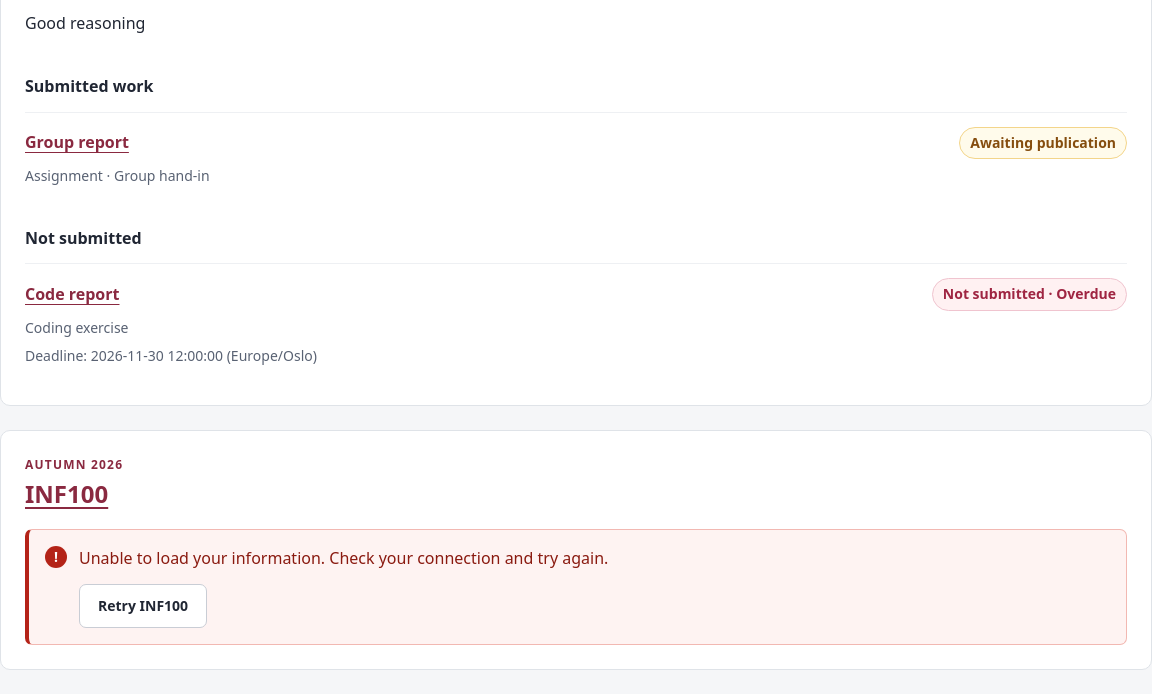
Scenario: Profile › keeps a course failure separate from personal information and other courses, and supports retry
(page scrolled)
Expected: the text "Good reasoning" is shown, [25,12,145,34]
Expected: the message shows "Check your connection", [79,547,608,569]
Click the button "Retry INF100": click(143, 606) [79,584,207,628]
(page scrolled)
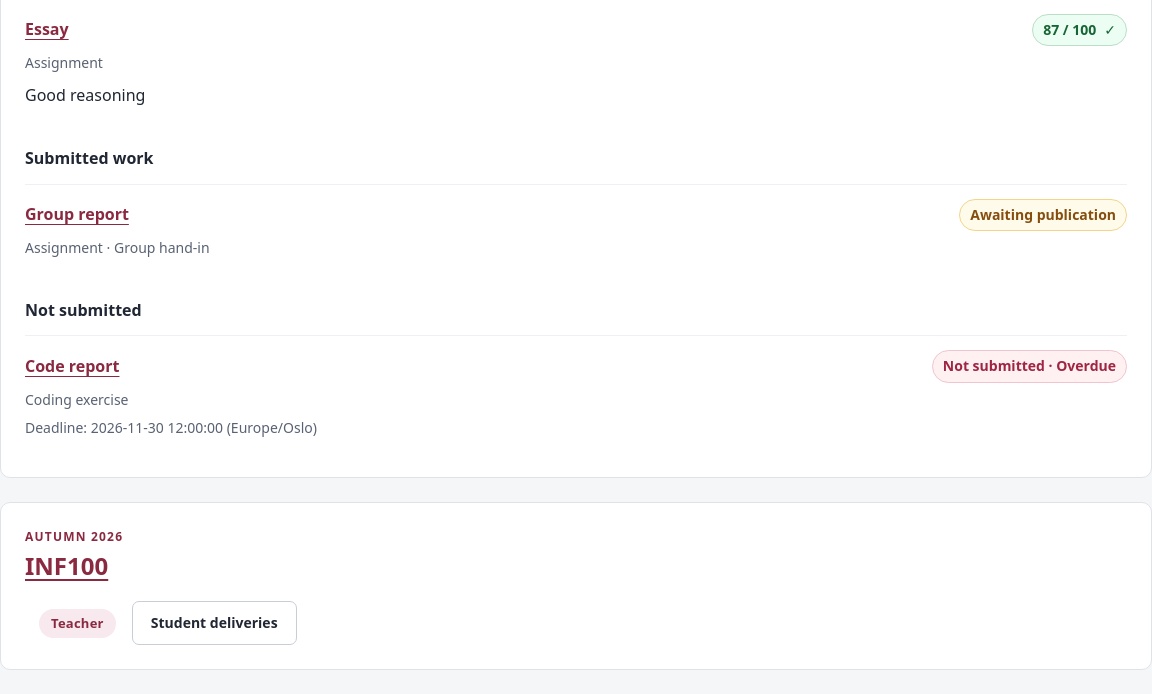
Expected: the text "Good reasoning" is shown, [25,84,145,106]
Expected: the text "Teacher" is shown, [39,609,116,638]
